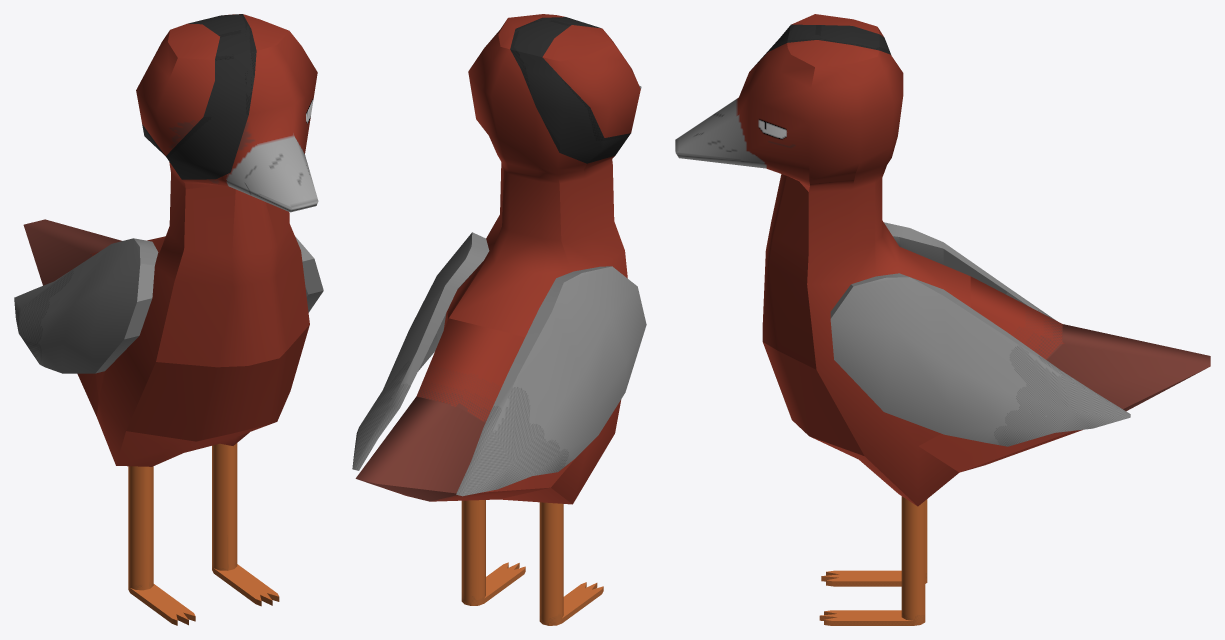
The model's file is duck guard.fbx.
The picture shows the model from 3 angles, left to right: view 1: azimuth 30°, elevation 25°; view 2: azimuth 150°, elevation 25°; view 3: azimuth 270°, elevation 25°; orthographic projection. The views are drawn at different scales.
Visible parts, largest first — view 1: pPlane3, pPlane6, pCylinder1, pCylinder2, pPlane5; view 2: pPlane3, pPlane6, pPlane5, pCylinder2, pCylinder1; view 3: pPlane3, pPlane5, pCylinder1, pPlane6, pCylinder2.
Part boxes in pixels (x1,y1,x2,y2): pPlane3: (23,14,318,466); pPlane6: (14,238,158,373); pCylinder1: (212,443,279,606); pCylinder2: (128,466,195,625); pPlane5: (295,236,323,312); pPlane3: (355,14,641,504); pPlane6: (456,266,646,496); pPlane5: (352,232,489,470); pCylinder2: (539,502,603,625); pCylinder1: (461,500,525,605); pPlane3: (675,14,1210,506); pPlane5: (830,273,1130,446); pCylinder1: (819,496,925,625); pPlane6: (884,222,1054,319); pCylinder2: (821,499,927,586).
Size of the model in its own units: 0.3987 by 1.05 by 0.8919.
Materials: 4 (4 with a texture image).
